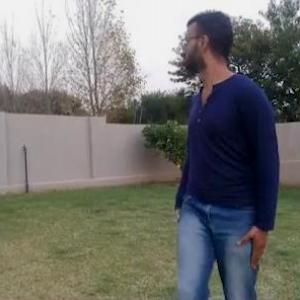follow: (169, 4, 285, 299)
